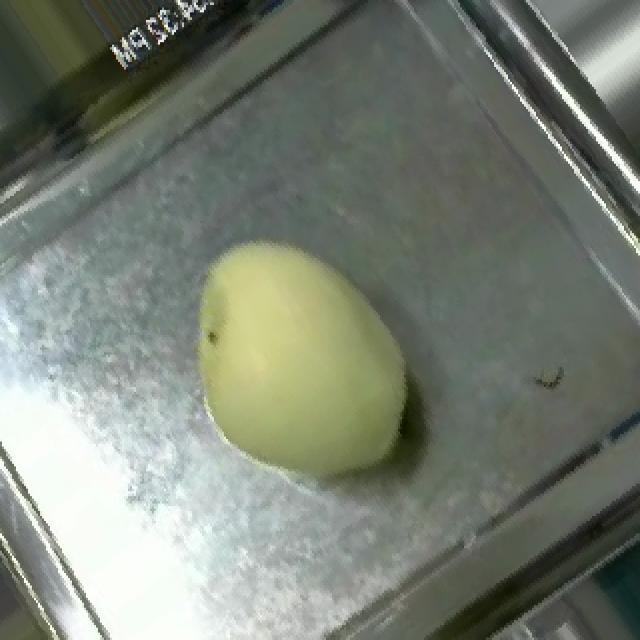apple: (89, 151, 477, 518)
